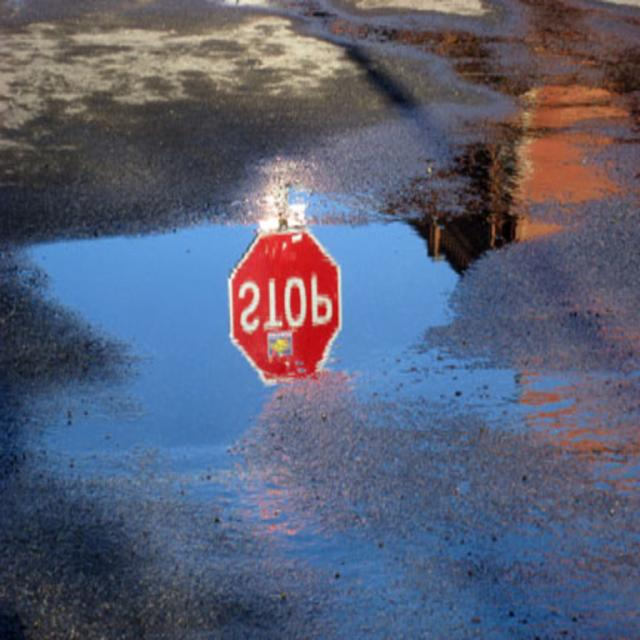Stop-sign: (225, 223, 344, 385)
